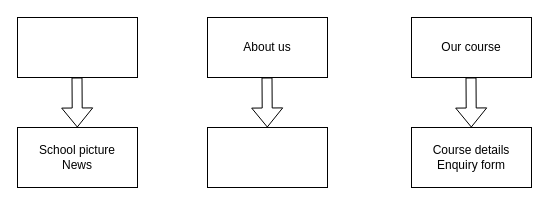
Some shapes in this 549 by 205 pixel diagram are drawn without their labels. Here are the shapes that lost their labels. From the top down, the centre of each, then its label:
At (77,47): "Home Page".
At (267,157): "School contact information Google maps".
